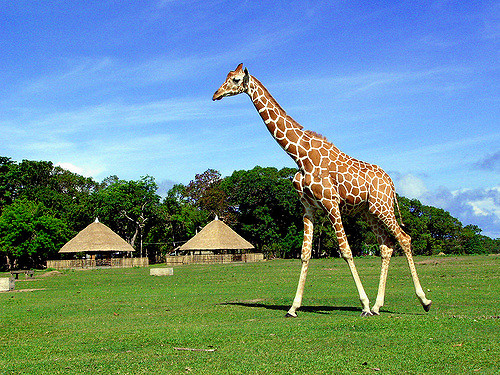giraffe: (204, 54, 438, 326)
